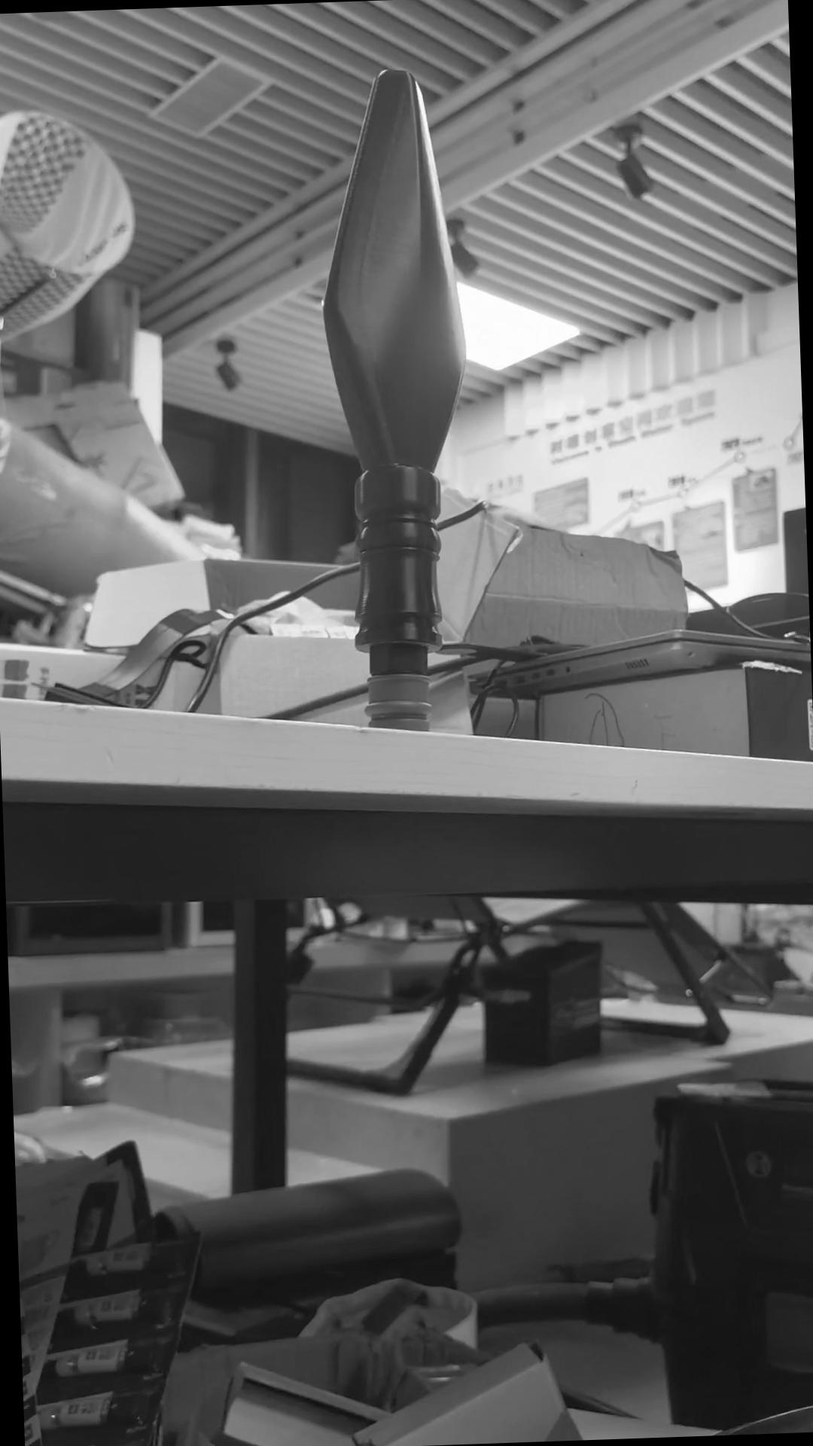base: (369, 659, 437, 729)
